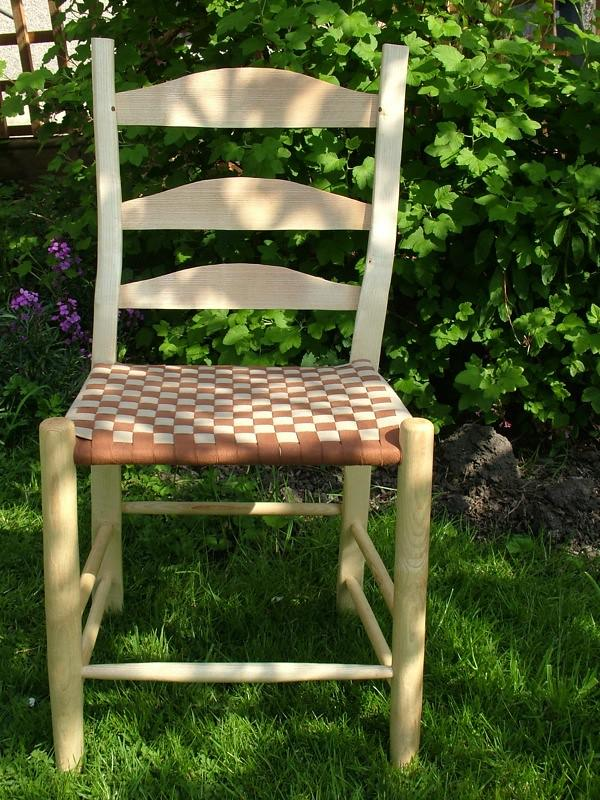chair: (39, 36, 435, 776)
